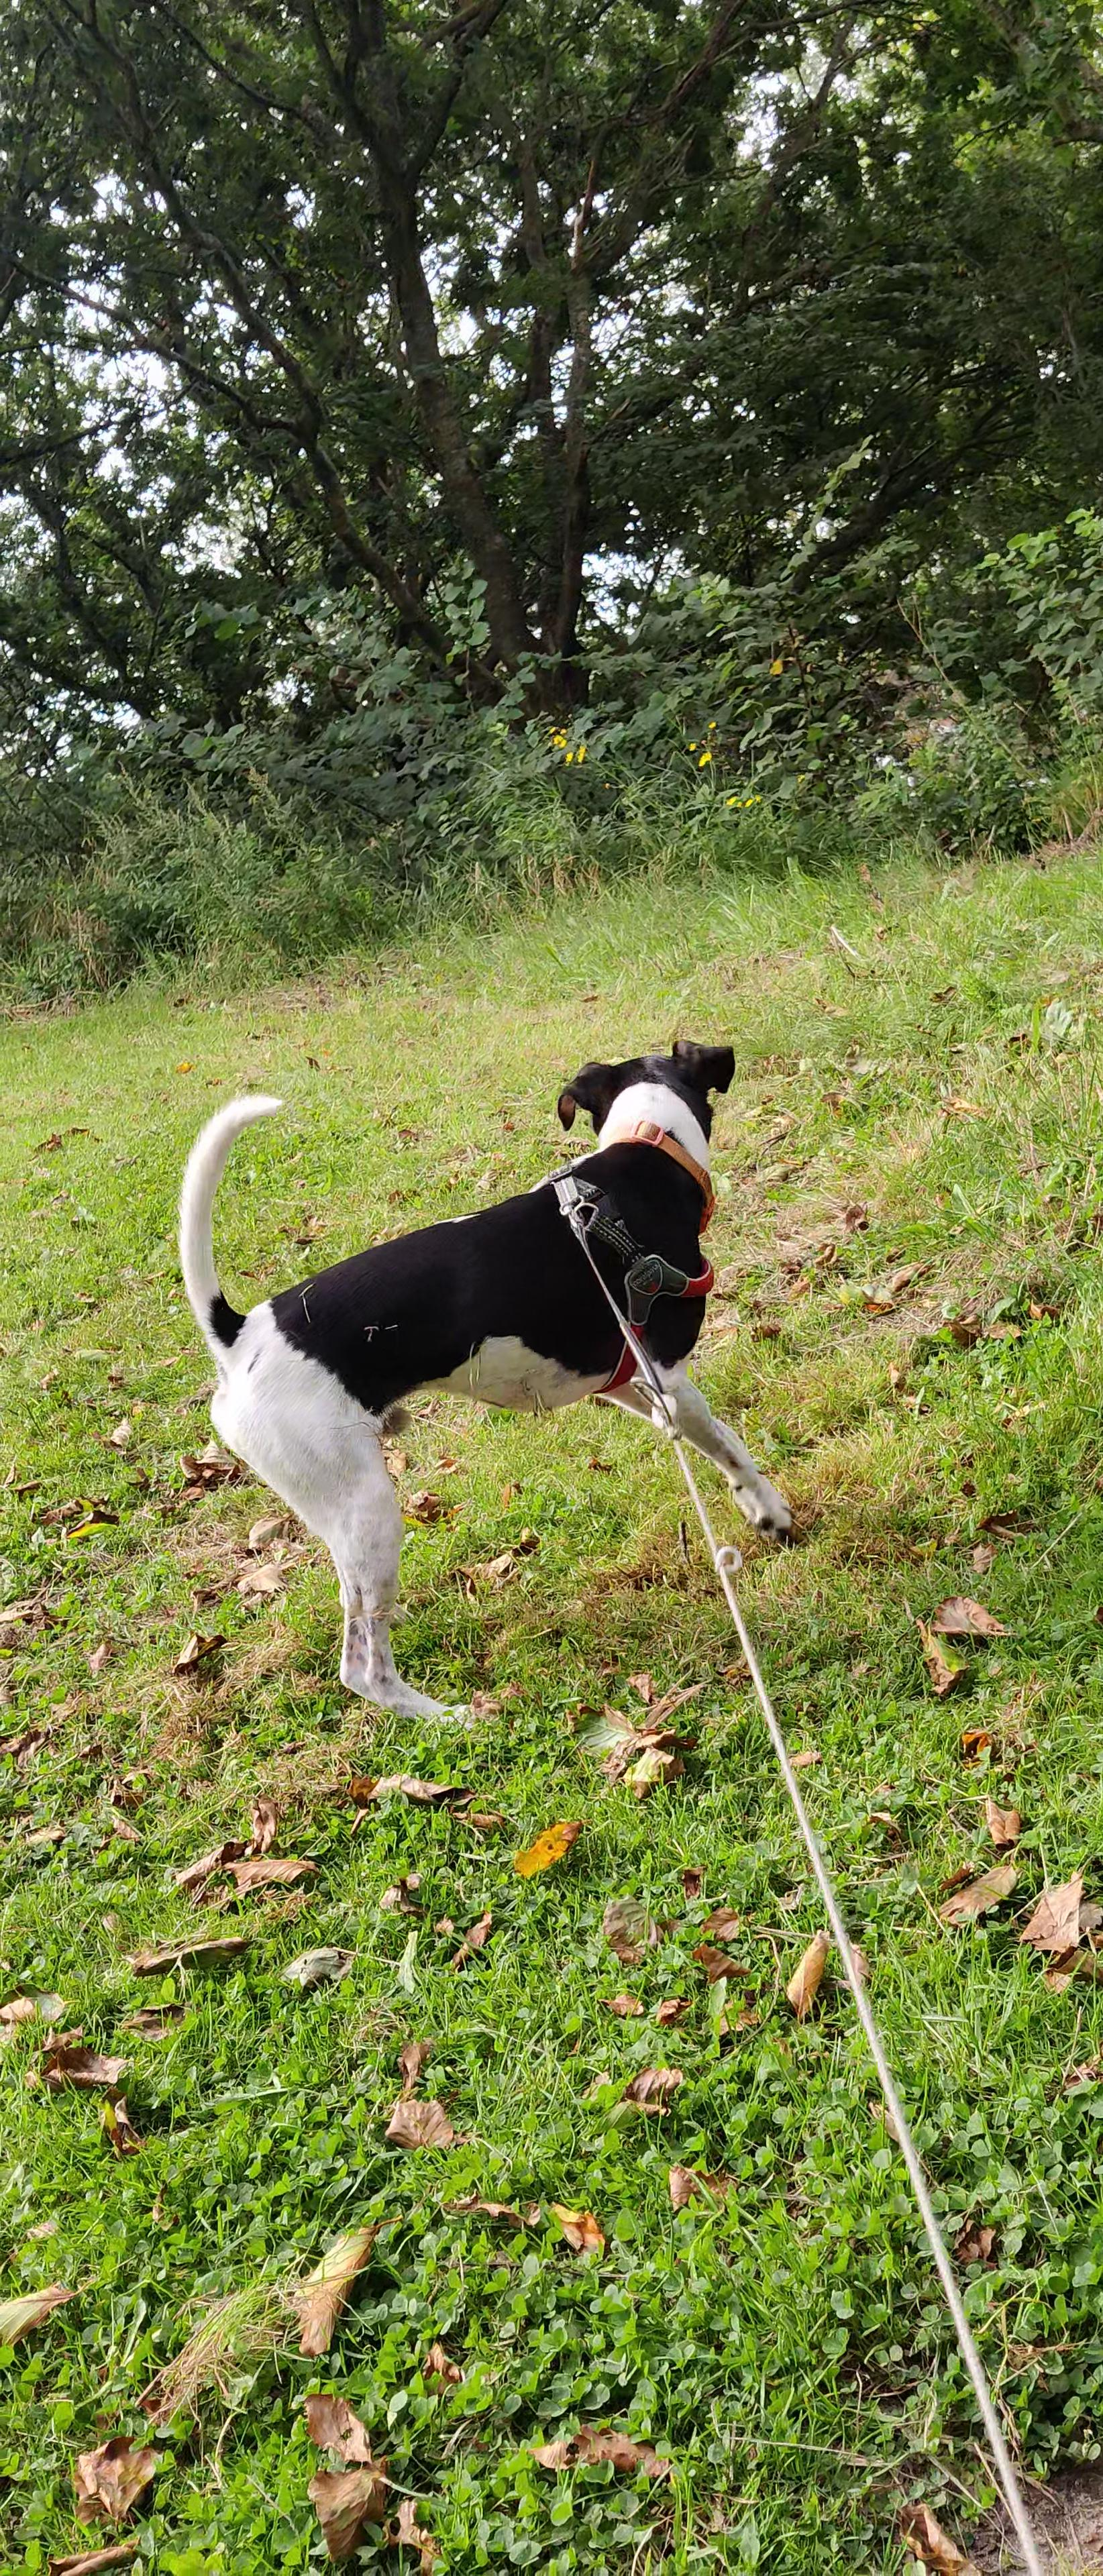Dog: (146, 1004, 847, 1756)
